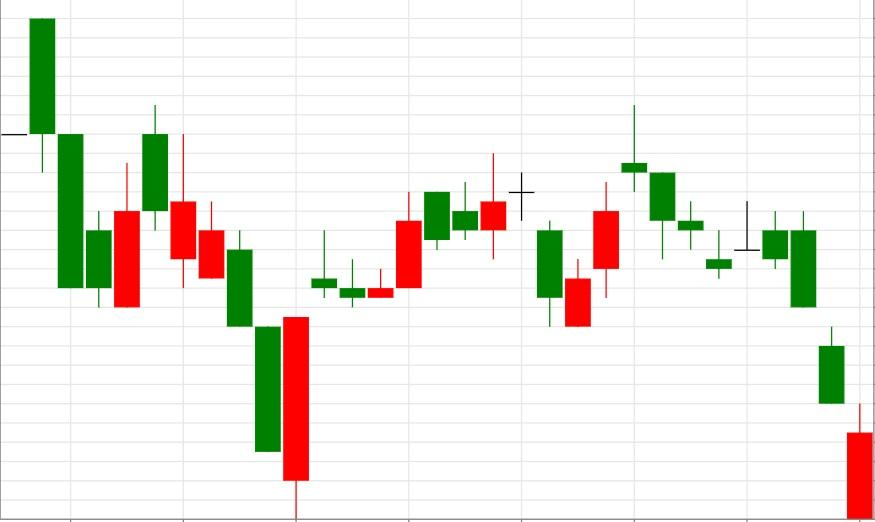bullish_engulfing_rise: (142, 104, 311, 522)
